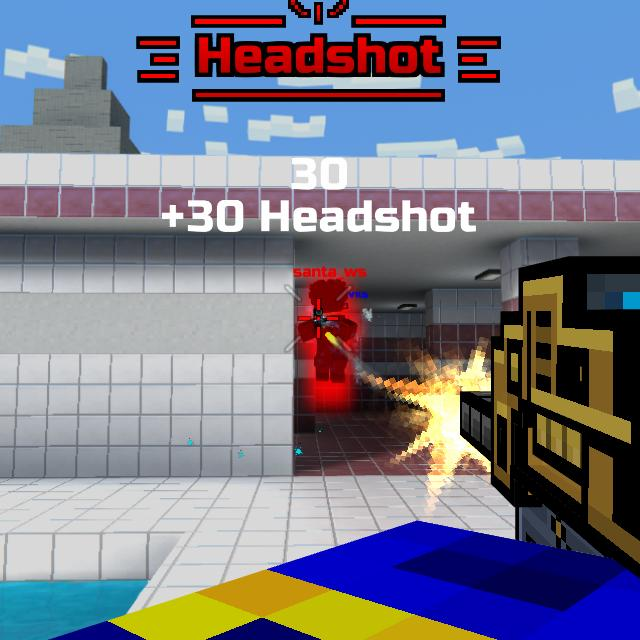Enemy: (298, 279, 358, 383)
